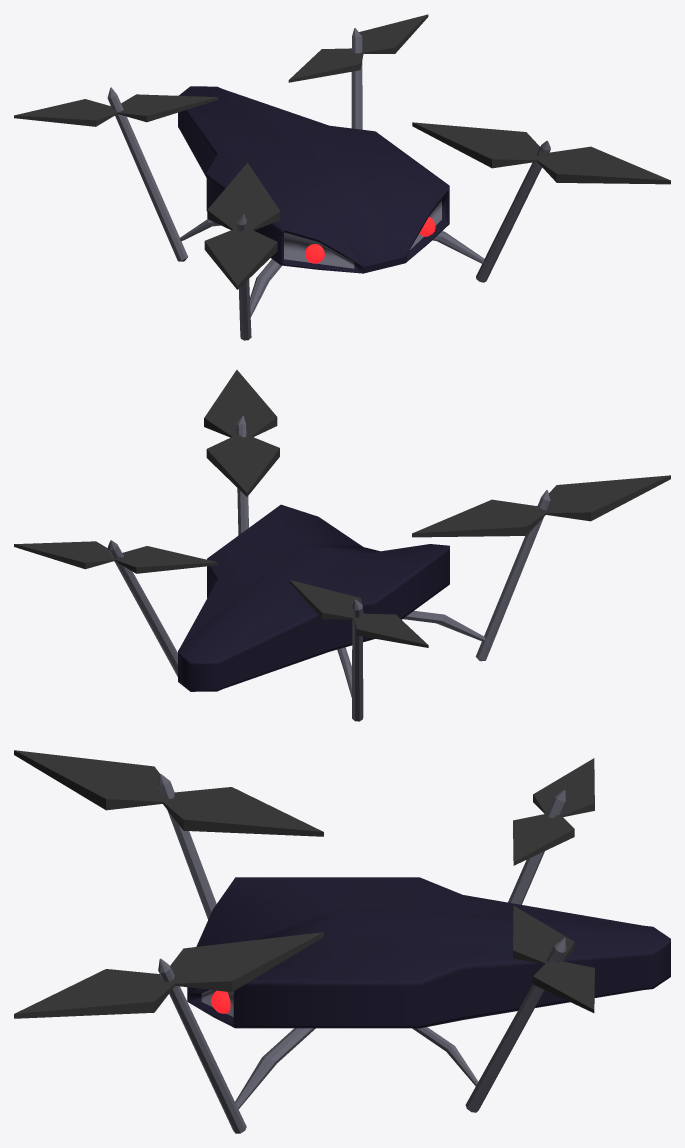
The model's file is Drone.fbx.
3 views of the same model, one above another, from view 1: azimuth 30°, elevation 25°; view 2: azimuth 150°, elevation 25°; view 3: azimuth 270°, elevation 25° (orthographic). The views are drawn at different scales.
Parts seen in each view (by area): view 1: Body, Helice_F_L, Helice_F_R, Helice_BR, Helice__B_L, Leg_02_B_R, Leg_01_FL, Leg_02_B-L, Leg_02_F_R, Front_Leg_R, Front_Leg_R.001; view 2: Body, Helice_F_R, Helice_F_L, Helice__B_L, Helice_BR, Leg_02_F_R, Leg_02_B-L, Leg_02_B_R, Front_Leg_R, Leg_01_FL; view 3: Body, Helice_F_L, Helice_F_R, Helice__B_L, Helice_BR, Leg_01_FL, Leg_02_B-L, Leg_02_F_R, Front_Leg_R.001, Leg_02_B_R, Back:Leg_R.001.
Boxes of the visible parts, <box> form: Body: <box>178,86,449,273</box>; Helice_F_L: <box>412,122,670,184</box>; Helice_F_R: <box>204,162,280,289</box>; Helice_BR: <box>14,94,218,126</box>; Helice__B_L: <box>288,14,428,82</box>; Leg_02_B_R: <box>107,87,187,261</box>; Leg_01_FL: <box>476,140,550,282</box>; Leg_02_B-L: <box>351,28,362,129</box>; Leg_02_F_R: <box>236,214,251,340</box>; Front_Leg_R: <box>241,259,281,326</box>; Front_Leg_R.001: <box>433,231,484,263</box>; Body: <box>178,504,449,691</box>; Helice_F_R: <box>412,475,670,537</box>; Helice_F_L: <box>204,370,279,496</box>; Helice__B_L: <box>14,541,218,573</box>; Helice_BR: <box>289,579,428,647</box>; Leg_02_F_R: <box>475,490,550,661</box>; Leg_02_B-L: <box>107,540,177,676</box>; Leg_02_B_R: <box>352,599,363,721</box>; Front_Leg_R: <box>403,610,485,641</box>; Leg_01_FL: <box>236,416,248,535</box>; Body: <box>187,877,670,1028</box>; Helice_F_L: <box>14,932,323,1018</box>; Helice_F_R: <box>14,750,323,836</box>; Helice__B_L: <box>513,906,594,1012</box>; Helice_BR: <box>513,758,594,865</box>; Leg_01_FL: <box>158,958,246,1133</box>; Leg_02_B-L: <box>465,938,566,1112</box>; Leg_02_F_R: <box>158,774,216,919</box>; Front_Leg_R.001: <box>230,1028,315,1115</box>; Leg_02_B_R: <box>508,790,566,904</box>; Back:Leg_R.001: <box>412,1027,478,1085</box>.
Size of the model in its own units: 576 by 200 by 607.
